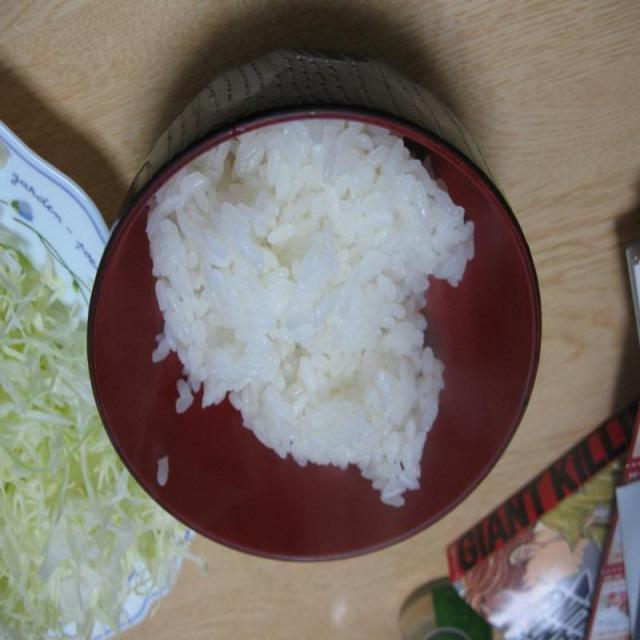nasi_putih: (146, 118, 476, 513)
